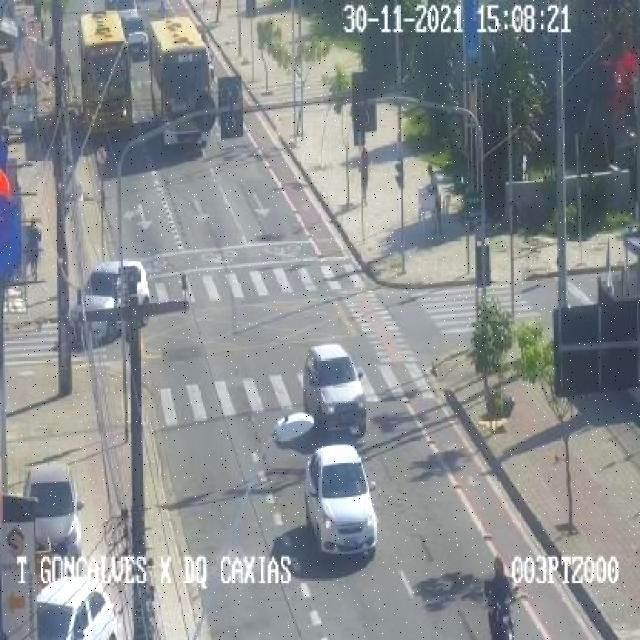Bus: (149, 14, 215, 146), (79, 10, 134, 134)
Car: (305, 444, 380, 557), (66, 259, 153, 346), (305, 344, 369, 436)
Cycle: (484, 554, 517, 640)
